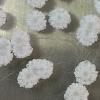white: (72, 58, 99, 86), (26, 57, 54, 81), (47, 7, 72, 32), (15, 67, 40, 89), (26, 10, 48, 34), (77, 12, 100, 34), (62, 82, 90, 100), (74, 28, 99, 48), (11, 44, 34, 59), (0, 48, 15, 68), (12, 31, 32, 46), (25, 0, 48, 9), (0, 35, 12, 51), (0, 8, 8, 31), (91, 0, 100, 17)
